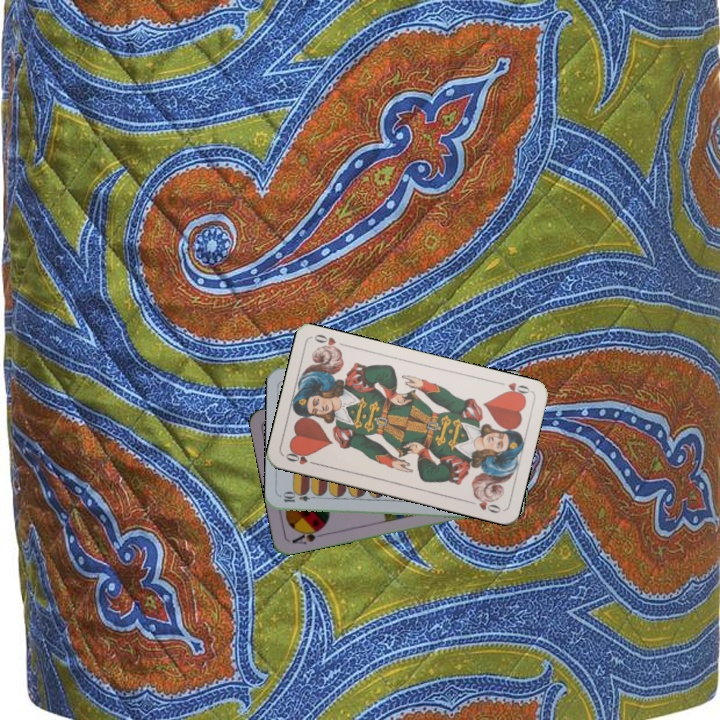E10: (279, 491, 320, 505)
HO: (493, 378, 533, 401), (281, 447, 321, 468)
SA: (288, 524, 326, 547)
